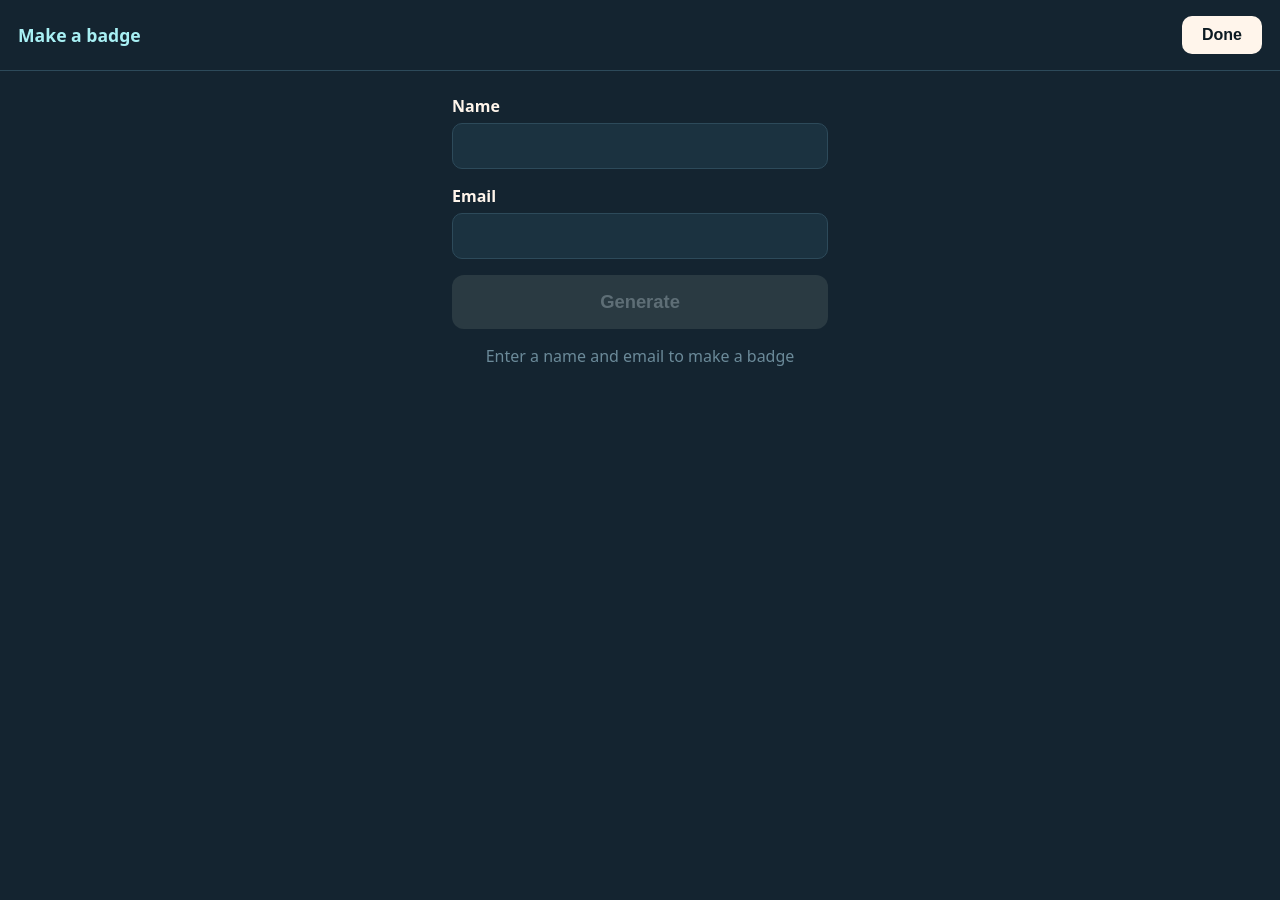
Scenario: BadgeGenerator › replaces the Badge when Generate is pressed again with new inputs
The image size is (1280, 900).
Type "Ada Lovelace" into the field labelled "Name".
click(640, 146); type("Ada Lovelace")  # box [452, 123, 828, 169]
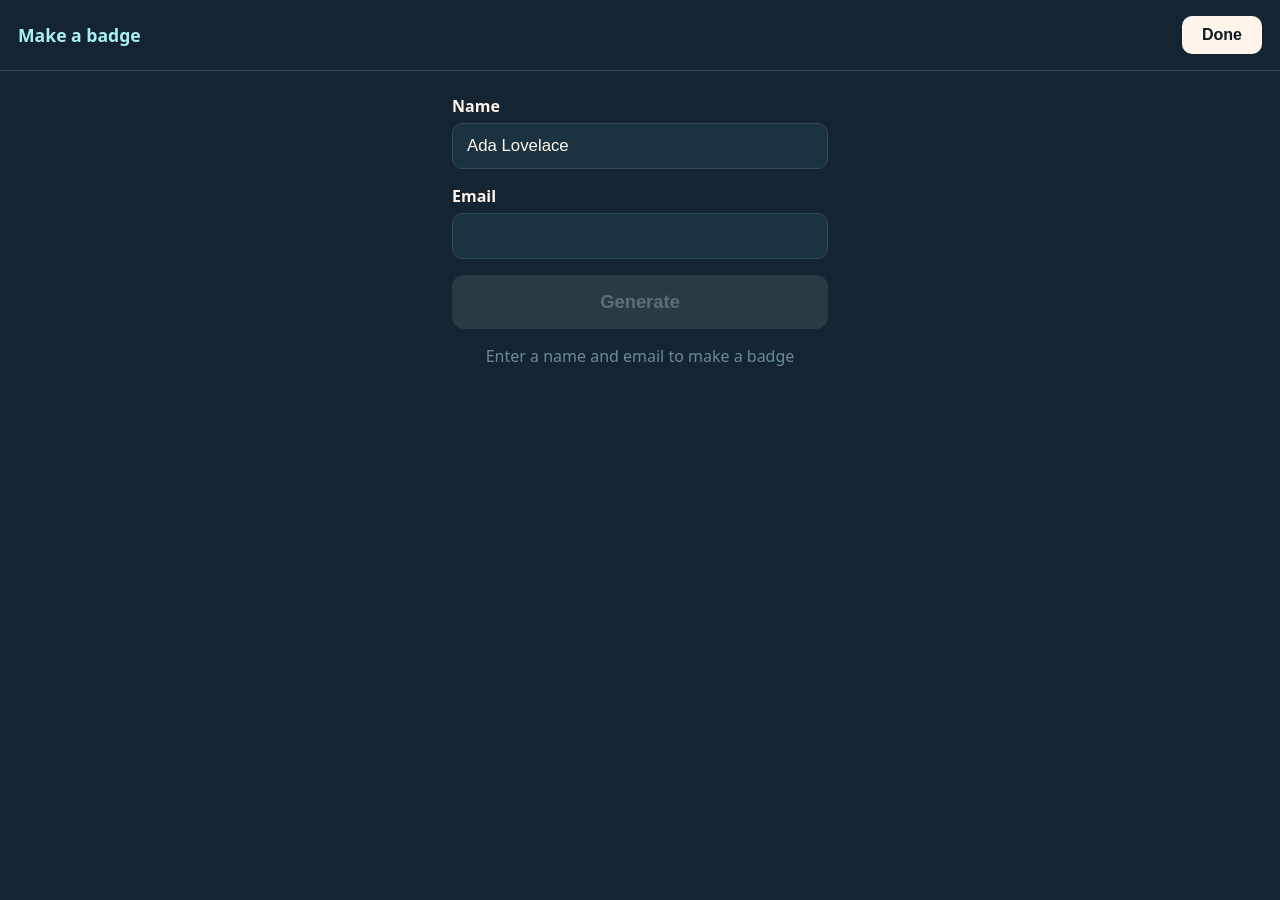
Type "ada@dayofdata.example" into the field labelled "Email".
click(640, 236); type("ada@dayofdata.example")  # box [452, 213, 828, 259]
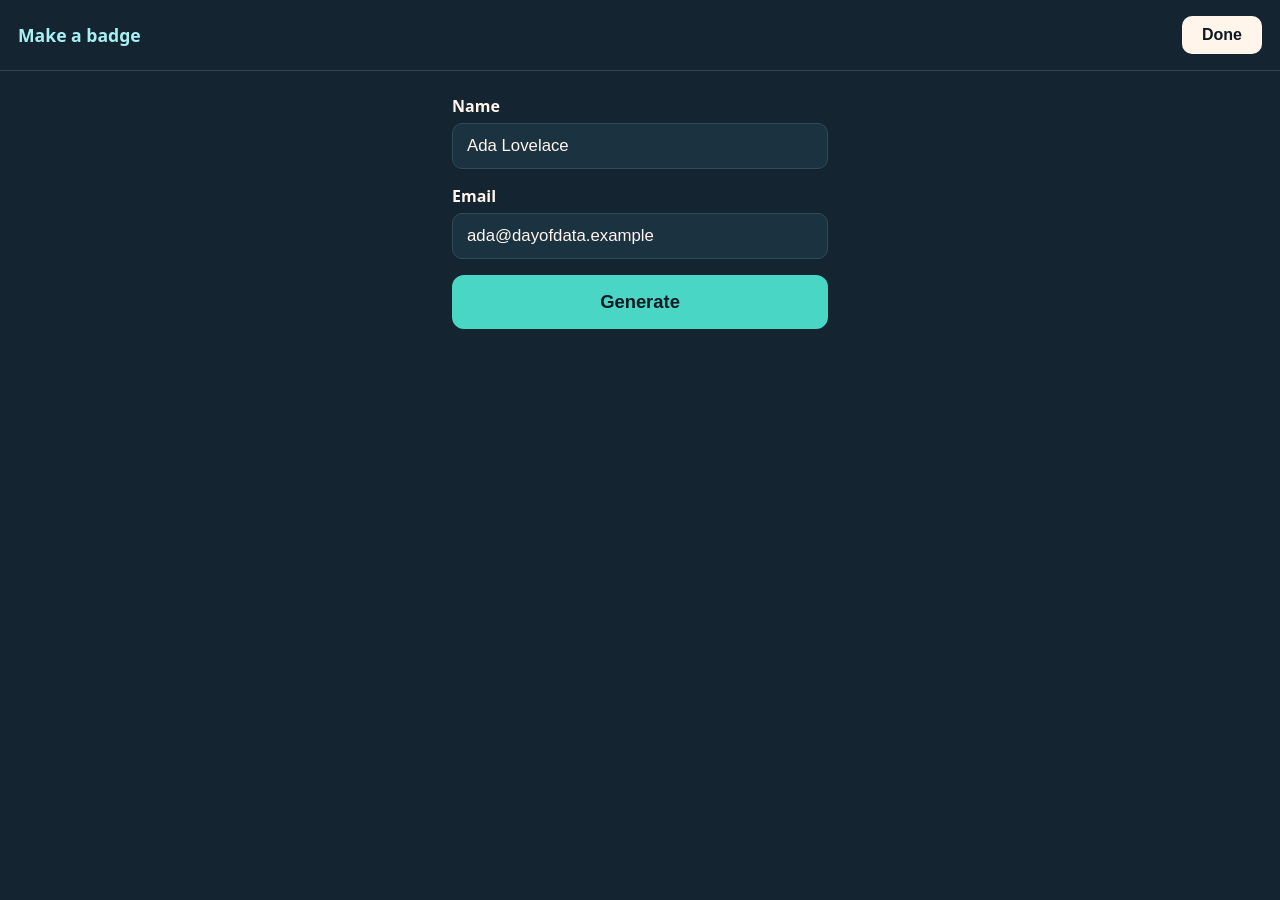
Click the button "Generate".
click(640, 302)  # box [452, 275, 828, 329]
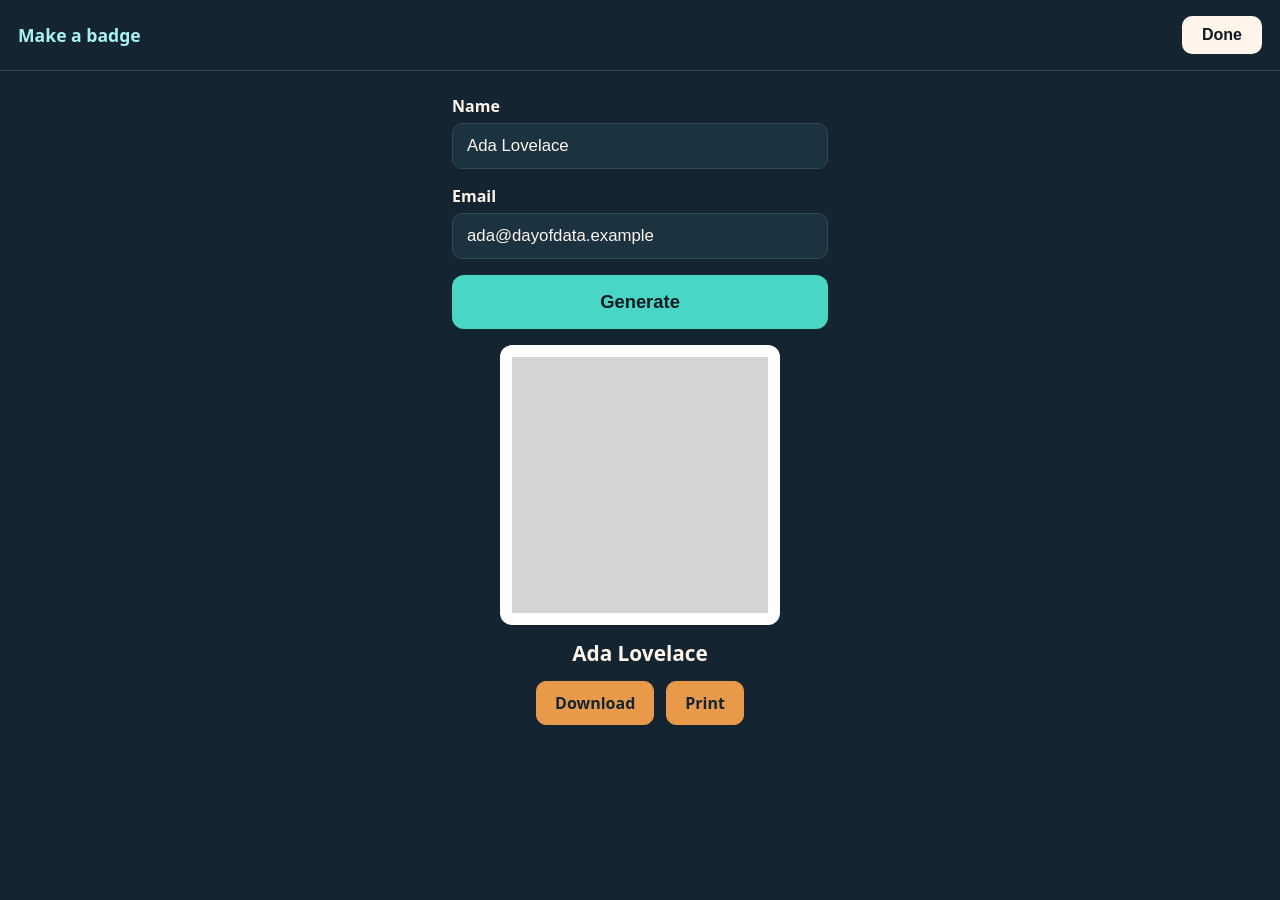
Replace the text in the field labelled "Name" with "Grace Hopper" at coordinates (640, 146), box [452, 123, 828, 169]
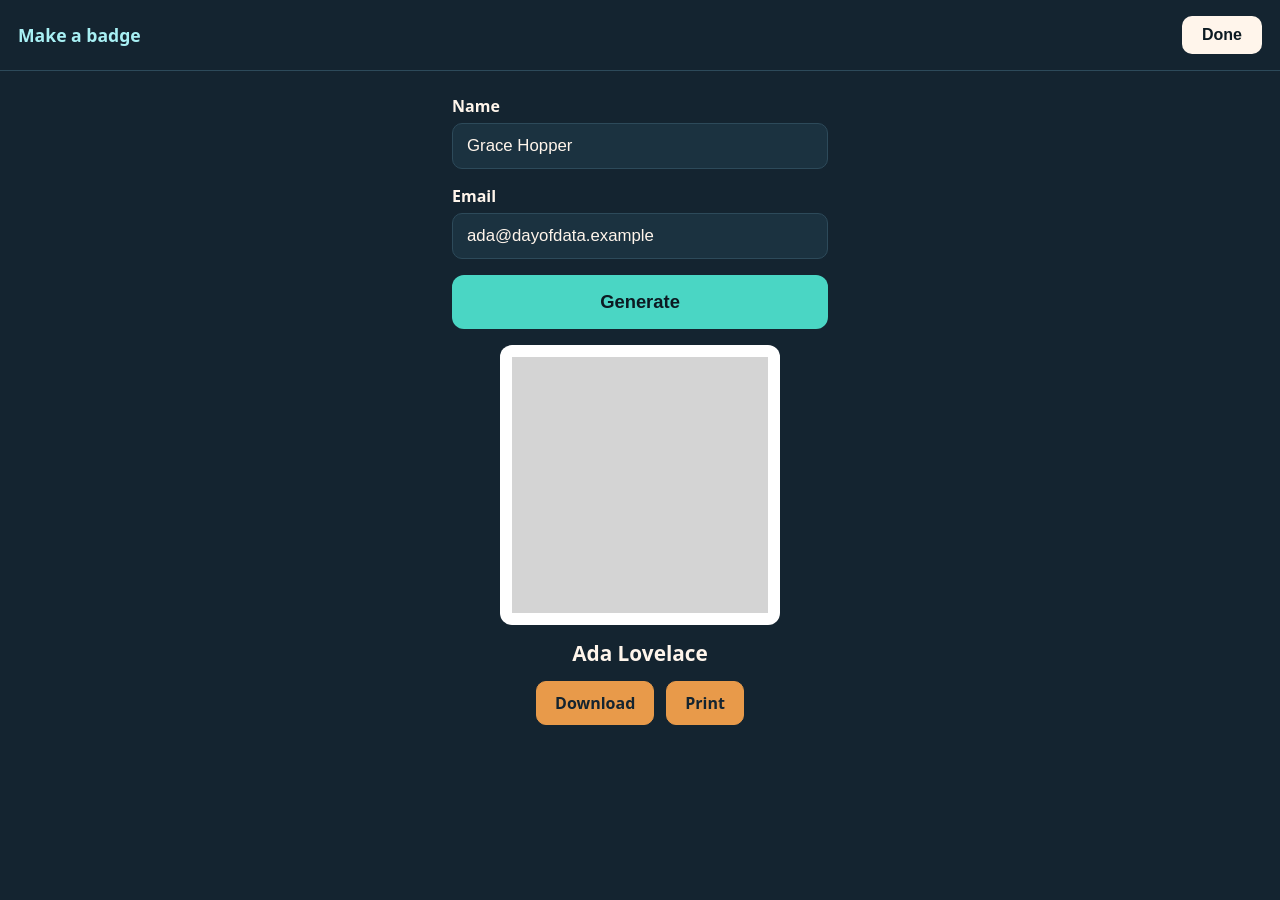
Replace the text in the field labelled "Email" with "grace@dayofdata.example" at coordinates (640, 236), box [452, 213, 828, 259]
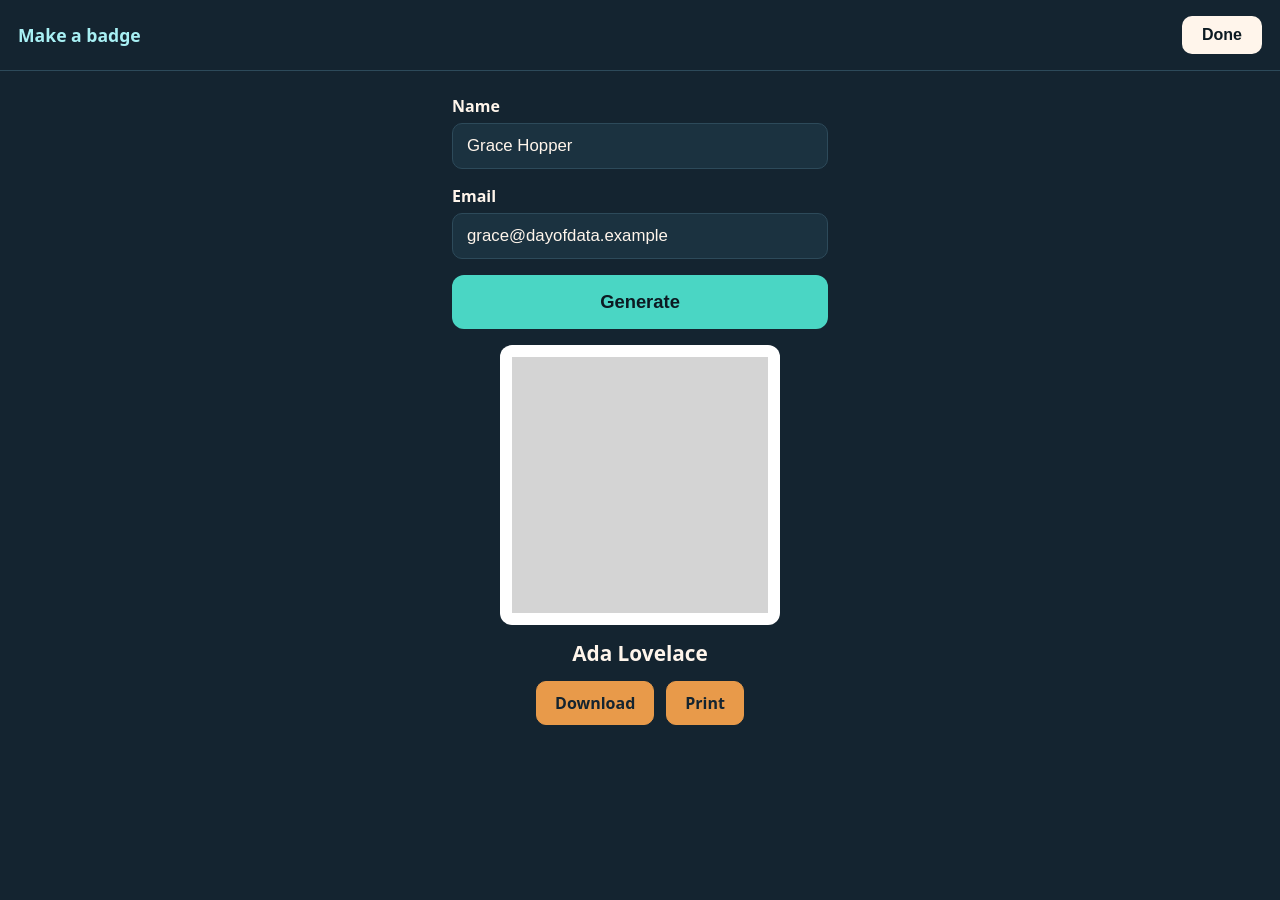
Click the button "Generate".
click(640, 302)  # box [452, 275, 828, 329]
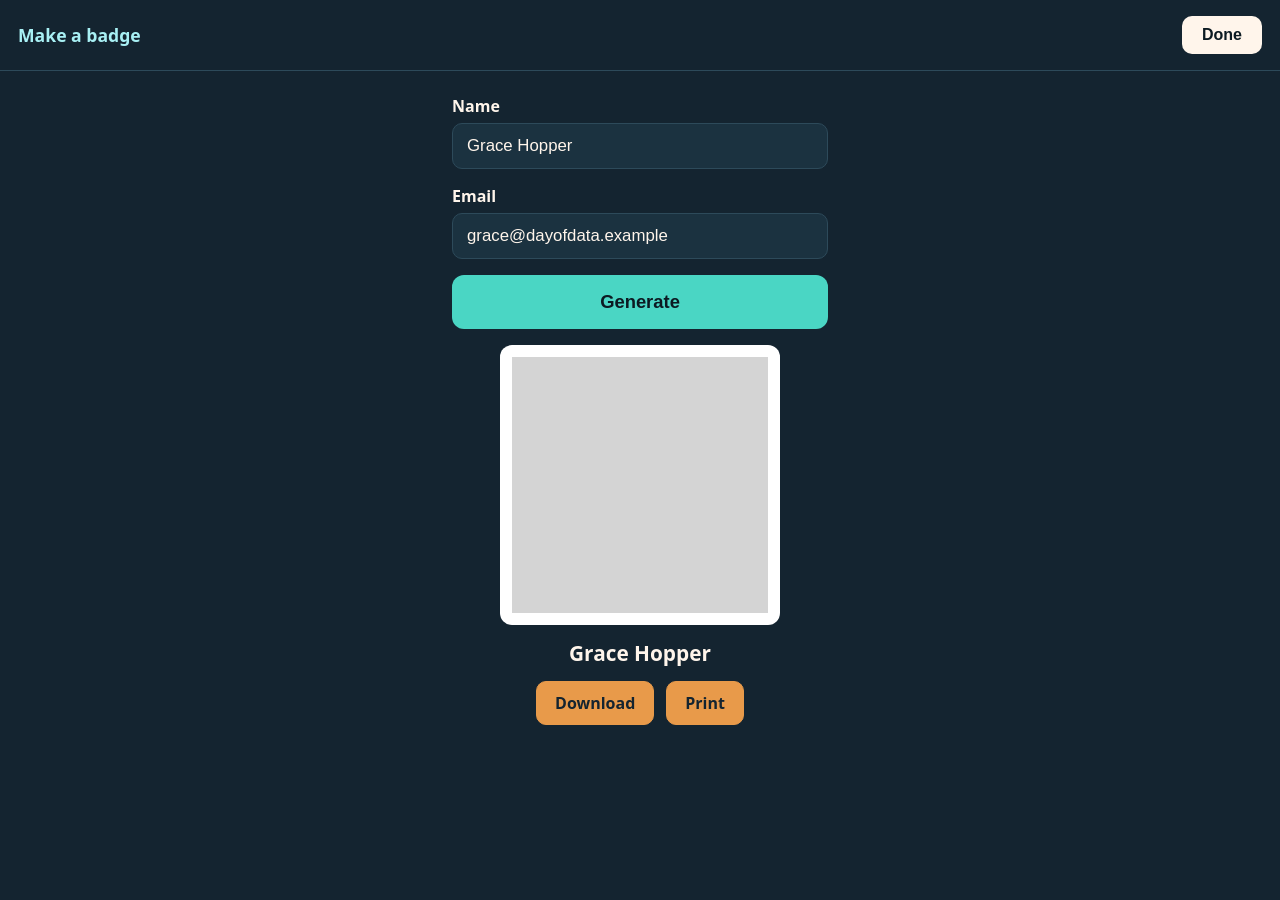
Check: the text with test id "badge-name" reads "Grace Hopper", box [569, 639, 711, 667]
